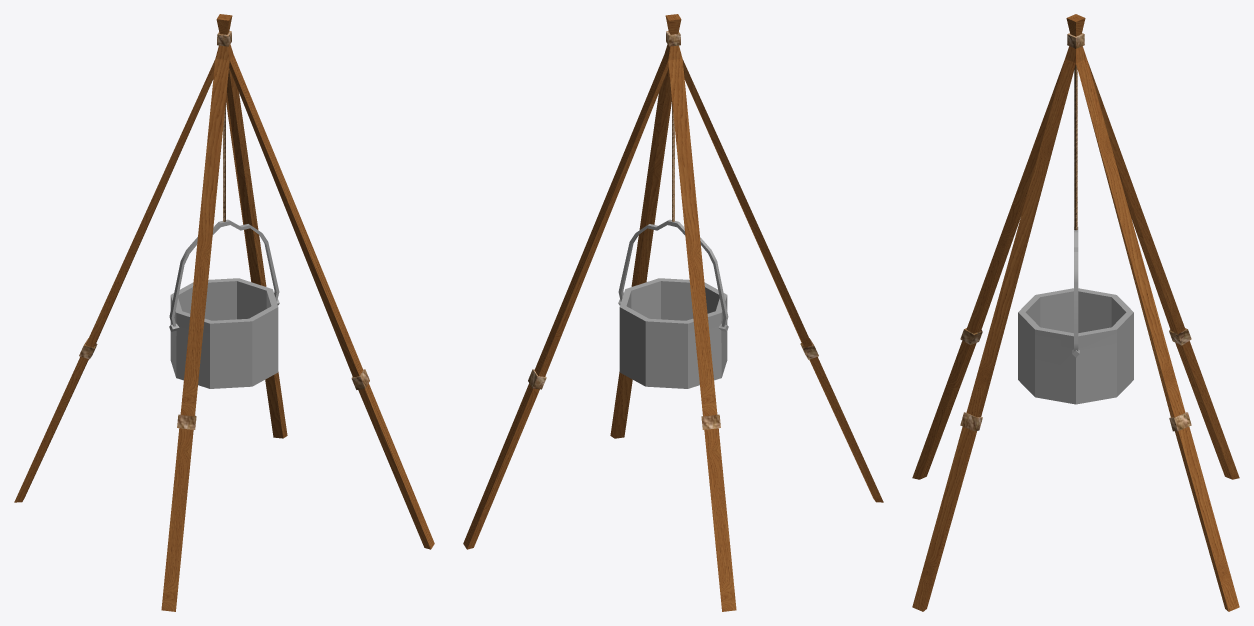
The model's file is pot.fbx.
3 renders of one model, left to right at view 1: azimuth 30°, elevation 25°; view 2: azimuth 150°, elevation 25°; view 3: azimuth 270°, elevation 25°, orthographic. The views are drawn at different scales.
Visible parts, largest first — view 1: potStand, pot2, potHandle; view 2: potStand, pot2, potHandle; view 3: potStand, pot2, string1, potHandle.
Part boxes in pixels (left/top/right/bottom): potStand: left=14, top=14, right=434, bottom=611; pot2: left=169, top=278, right=279, bottom=388; potHandle: left=169, top=219, right=279, bottom=326; potStand: left=463, top=14, right=883, bottom=611; pot2: left=618, top=278, right=728, bottom=388; potHandle: left=618, top=219, right=728, bottom=326; potStand: left=912, top=14, right=1239, bottom=611; pot2: left=1018, top=288, right=1133, bottom=404; string1: left=1074, top=64, right=1077, bottom=230; potHandle: left=1074, top=227, right=1078, bottom=351.
Bounding box in the file's own units: 107 × 190 × 107.
